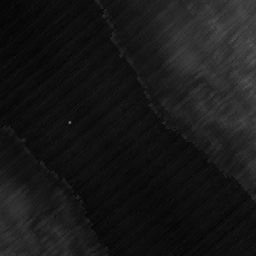Target: (66, 118, 73, 125)
